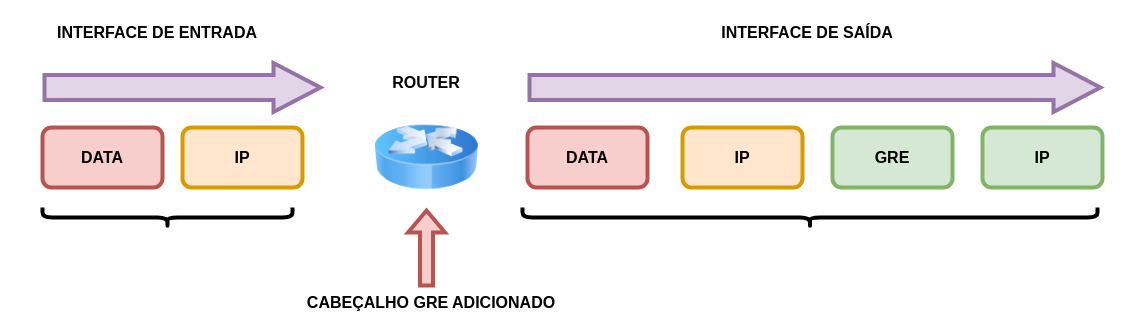
This 1144x334 diagram has some shape labels left out. Each missing label, with the box of its shape:
PACOTE ENCAPSULADO GRE: (520, 205, 1099, 229)
PACOTE ORIGINAL: (40, 205, 294, 229)
